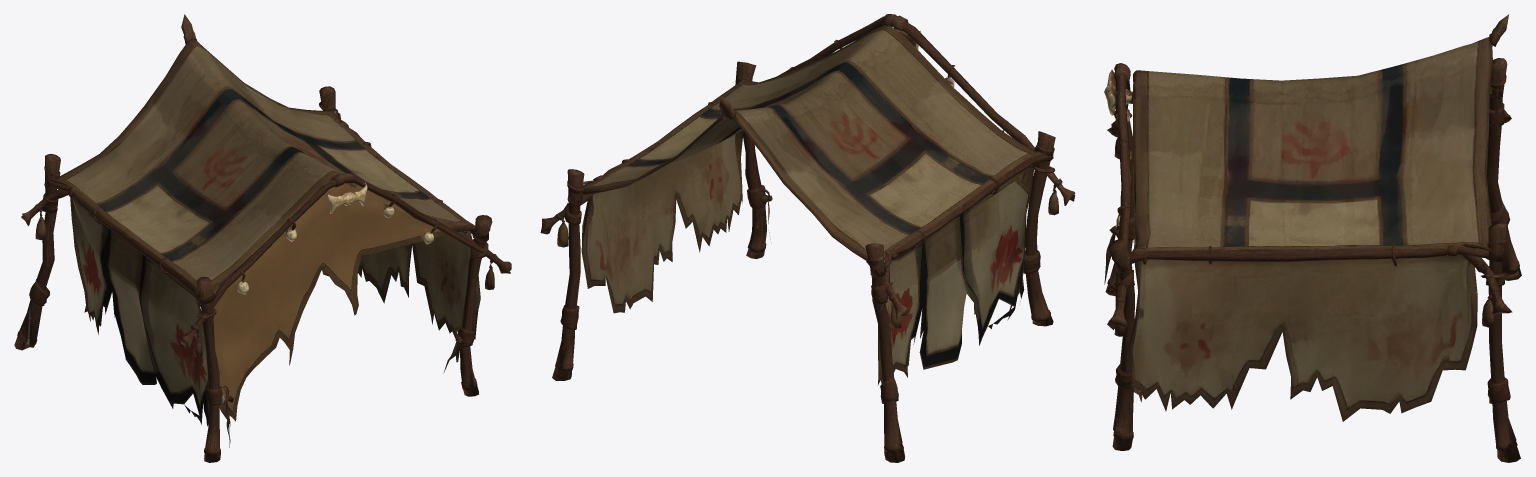
The model's file is goblin_tent.glb.
3 renders of one model, left to right at view 1: azimuth 30°, elevation 25°; view 2: azimuth 150°, elevation 25°; view 3: azimuth 270°, elevation 25°, orthographic. The views are drawn at different scales.
Size of the model in its own units: 0.9463 by 0.7886 by 0.8354.
Materials: 1 (1 with a texture image).
